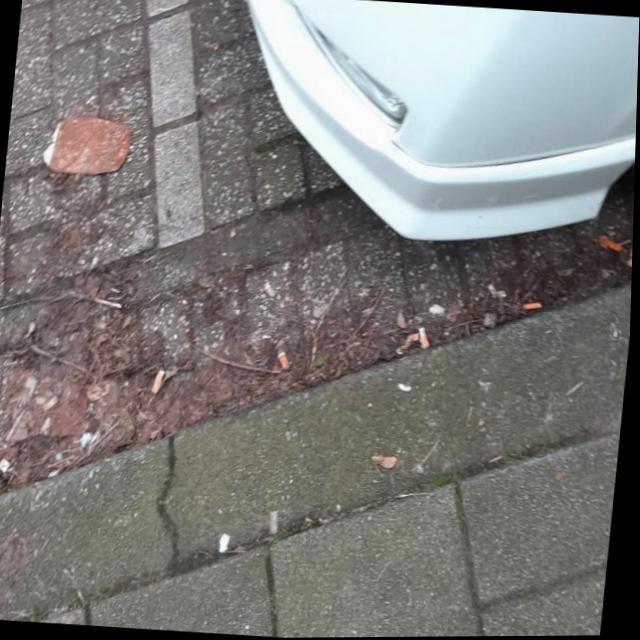Can-Metal: (500, 56, 561, 181)
